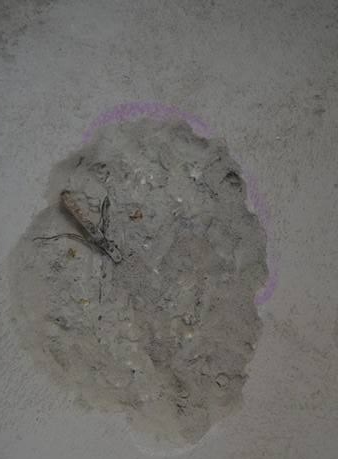Exposed reinforcement: (60, 190, 123, 266)
Spalling: (10, 114, 271, 457)
